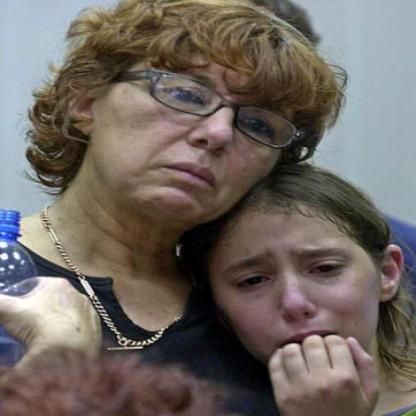face: (98, 1, 307, 235), (208, 179, 380, 386)
